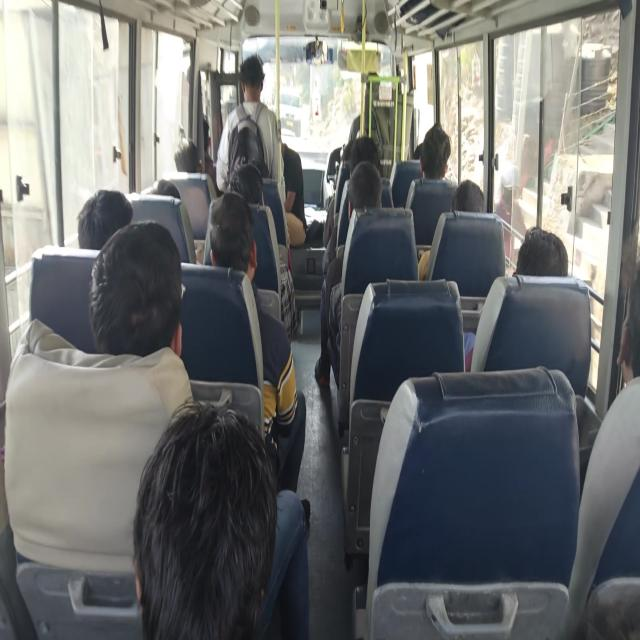person: (133, 402, 276, 634), (567, 253, 640, 624), (470, 228, 570, 376), (88, 219, 184, 361), (213, 38, 284, 169), (146, 175, 204, 270), (207, 190, 255, 278), (76, 189, 133, 252), (171, 132, 216, 205), (514, 226, 570, 280), (617, 256, 640, 387), (346, 158, 383, 216), (419, 123, 452, 183), (347, 134, 382, 180), (452, 179, 485, 214), (149, 178, 182, 200), (346, 114, 362, 150), (413, 143, 424, 163)
